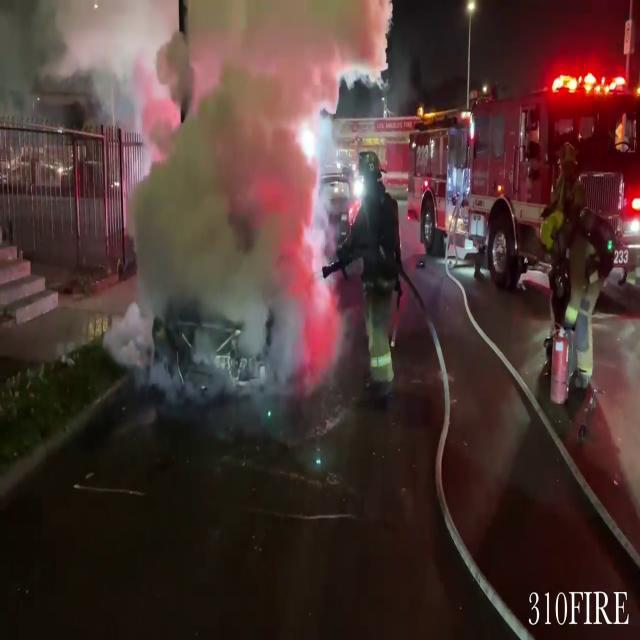Smoke: (99, 1, 359, 410)
